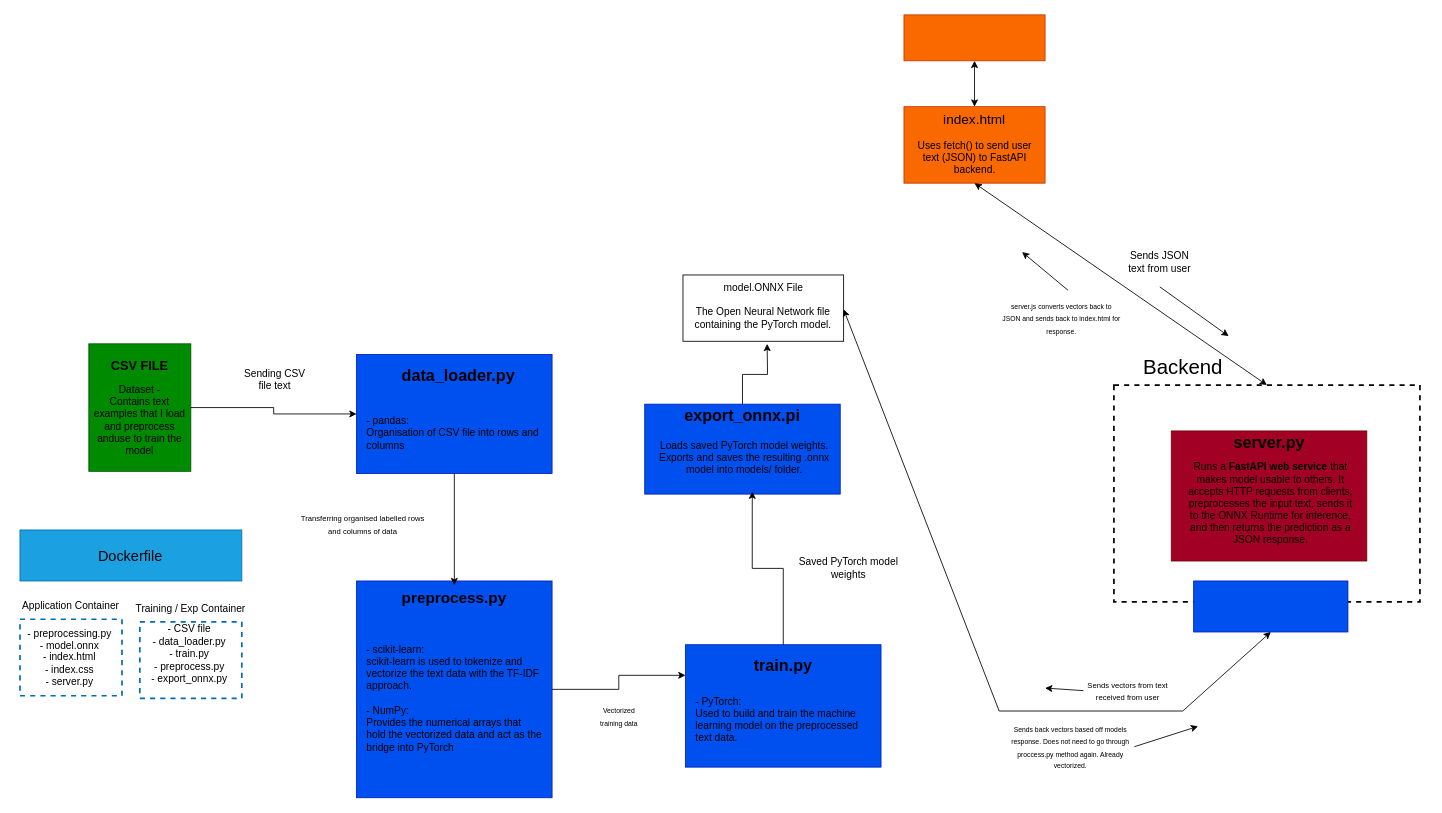
The diagram is 1442 pixels wide and 813 high, and some of its shapes have lost their labels. The centre of each missing label's shape, as x and y in pixels:
"index.css" goes at [974,37].
"uses preprocess.py method to vectorize text" goes at [1270,606].
